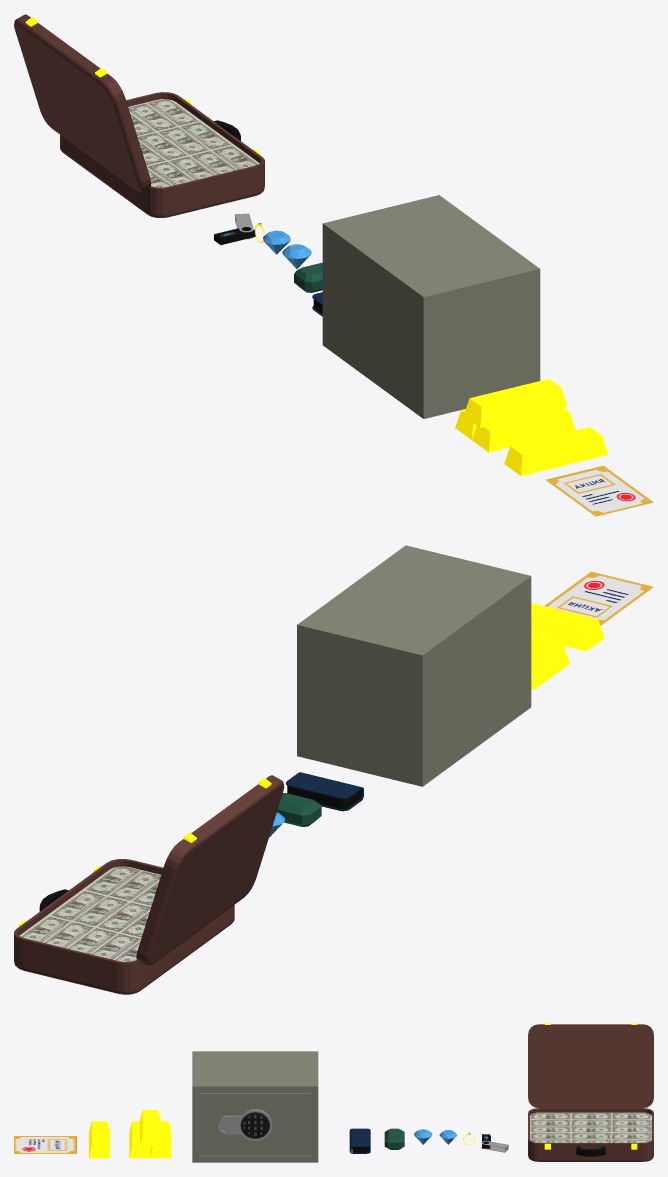
The model's file is bank props copy.fbx.
The picture shows the model from 3 angles, top to bottom: view 1: azimuth 30°, elevation 25°; view 2: azimuth 150°, elevation 25°; view 3: azimuth 270°, elevation 25°; orthographic projection. The views are drawn at different scales.
Parts seen in each view (by area): view 1: safe, suitcase, ingot x3, ingot, share, cryptocurrency wallet; view 2: safe, suitcase, share, ingot, wallet, ingot x3, emerald; view 3: suitcase, safe, ingot x3, share, ingot, wallet, emerald, cryptocurrency wallet.
Boxes of the visible parts, x1=… form: safe: x1=322, y1=195, x2=540, y2=418; suitcase: x1=14, y1=14, x2=264, y2=217; ingot x3: x1=455, y1=379, x2=575, y2=452; ingot: x1=504, y1=427, x2=608, y2=475; share: x1=545, y1=465, x2=653, y2=516; cryptocurrency wallet: x1=214, y1=213, x2=255, y2=244; safe: x1=297, y1=545, x2=531, y2=786; suitcase: x1=14, y1=775, x2=284, y2=994; share: x1=544, y1=571, x2=653, y2=625; ingot: x1=531, y1=603, x2=604, y2=651; wallet: x1=286, y1=772, x2=363, y2=811; ingot x3: x1=531, y1=626, x2=569, y2=689; emerald: x1=277, y1=793, x2=321, y2=826; suitcase: x1=528, y1=1023, x2=653, y2=1161; safe: x1=192, y1=1051, x2=318, y2=1162; ingot x3: x1=129, y1=1110, x2=171, y2=1158; share: x1=14, y1=1136, x2=76, y2=1153; ingot: x1=89, y1=1121, x2=109, y2=1158; wallet: x1=349, y1=1128, x2=370, y2=1153; emerald: x1=384, y1=1128, x2=404, y2=1149; cryptocurrency wallet: x1=481, y1=1134, x2=508, y2=1152.
Bounding box in the file's own units: 60 × 50.35 × 305.
12 materials, 4 textured.
